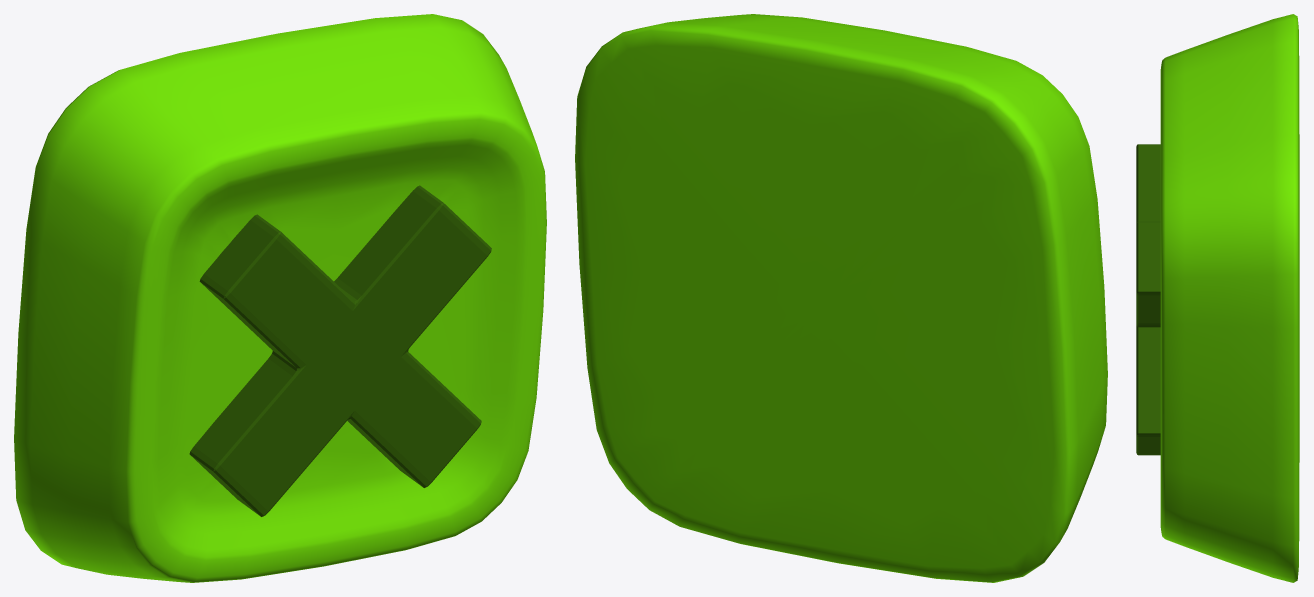
3 views of the same model, side by side, from view 1: azimuth 30°, elevation 25°; view 2: azimuth 150°, elevation 25°; view 3: azimuth 270°, elevation 25° (orthographic). The views are drawn at different scales.
Visible parts, largest first — view 1: X tile; view 2: X tile; view 3: X tile.
Boxes of the visible parts, <box> form: X tile: <box>14,14,546,582</box>; X tile: <box>575,14,1107,582</box>; X tile: <box>1136,14,1299,582</box>.
Bounding box in the file's own units: 1.84 × 1.84 × 0.6112.
